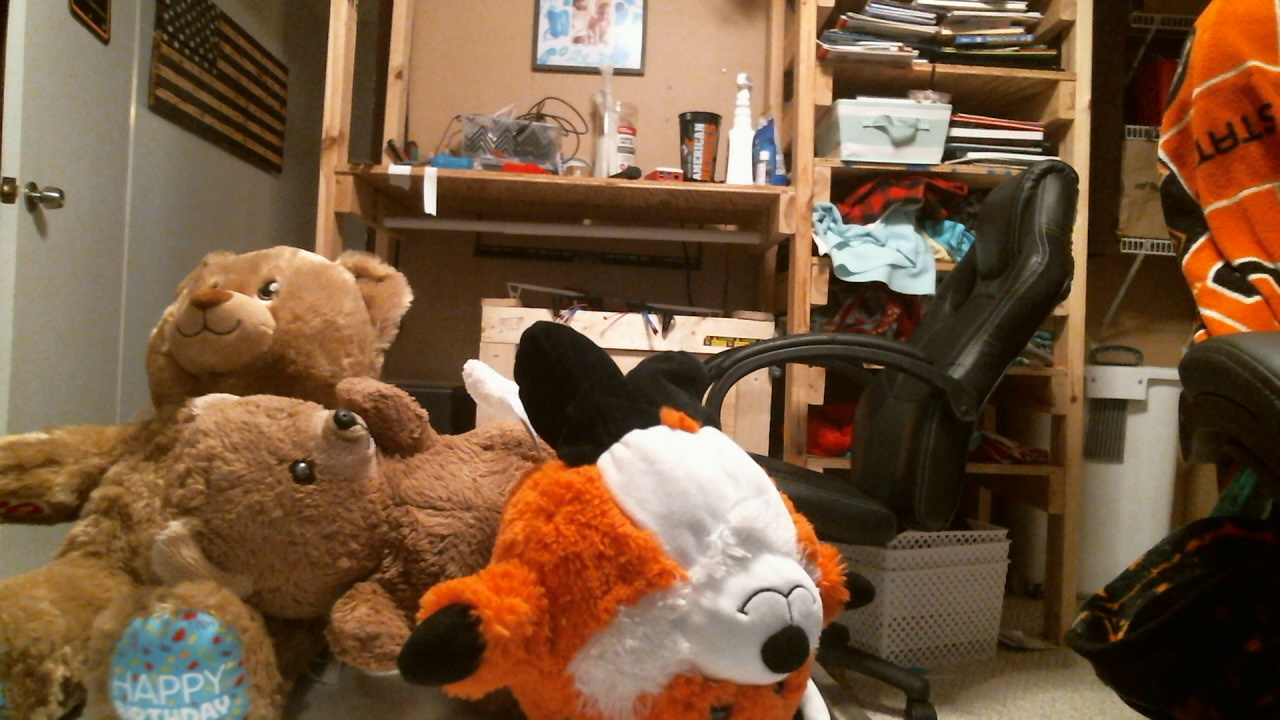Little_Mister_Bear: (172, 398, 453, 587)
